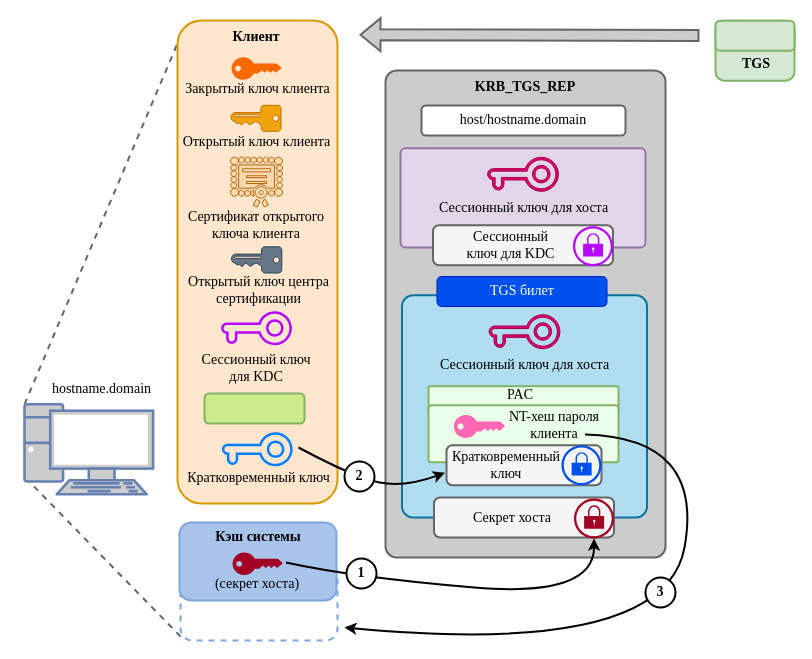
The diagram is 812 pixels wide and 659 high, and some of its shapes have lost their labels. Each missing label, with the box of its shape:
KDC: (714, 19, 795, 51)
TGT билет: (203, 392, 305, 424)
